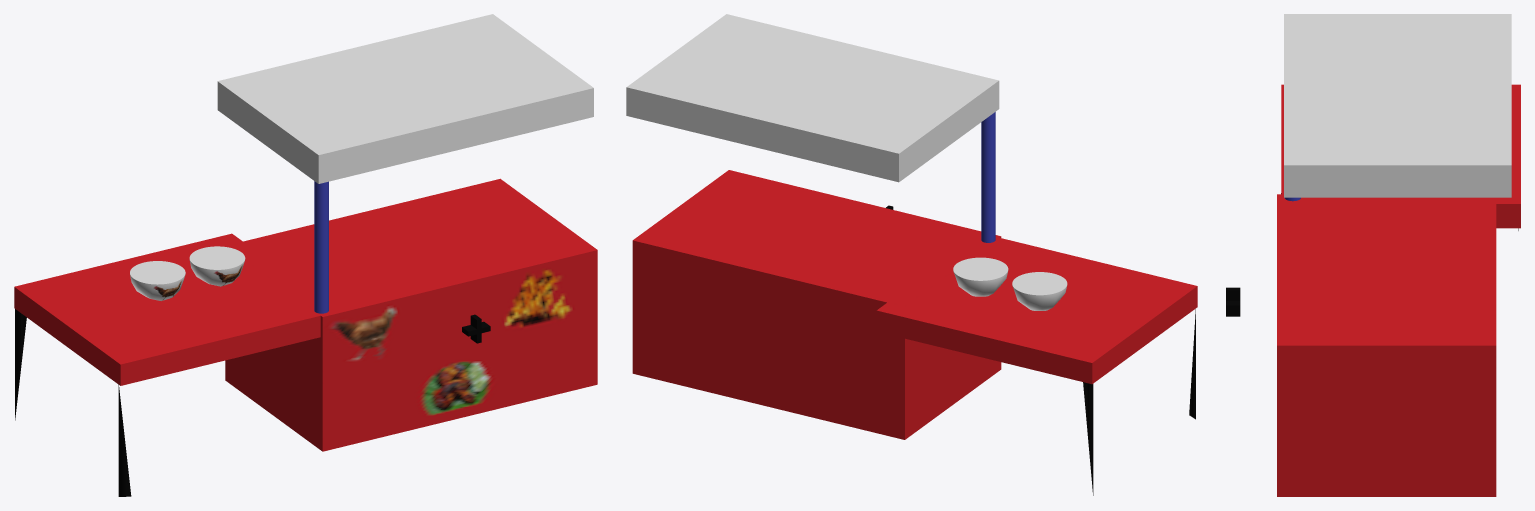
Rendered from boothchickengrilled.glb.
The picture shows the model from 3 angles, left to right: view 1: azimuth 30°, elevation 25°; view 2: azimuth 150°, elevation 25°; view 3: azimuth 270°, elevation 25°; orthographic projection. The views are drawn at different scales.
Visible parts, largest first — view 1: Object_5, Object_9, Object_21, Object_7, Object_27, Object_29, Object_23; view 2: Object_5, Object_9, Object_21, Object_7, Object_27, Object_29, Object_23; view 3: Object_5, Object_9, Object_21, Object_32.
Boxes of the visible parts, x1,y1,x2,y2 form: Object_5: (225, 178, 597, 451); Object_9: (217, 14, 593, 183); Object_21: (14, 233, 321, 385); Object_7: (314, 181, 328, 313); Object_27: (189, 246, 245, 286); Object_29: (130, 261, 185, 300); Object_23: (15, 309, 131, 496); Object_5: (632, 170, 1001, 439); Object_9: (626, 14, 999, 182); Object_21: (876, 234, 1197, 384); Object_7: (981, 112, 995, 242); Object_27: (953, 257, 1008, 296); Object_29: (1012, 272, 1067, 310); Object_23: (1083, 309, 1195, 495); Object_5: (1277, 194, 1496, 496); Object_9: (1284, 14, 1511, 197); Object_21: (1281, 84, 1520, 228); Object_32: (1226, 287, 1240, 316).
Size of the model in its own units: 0.8094 by 0.481 by 0.3861.
8 materials, 3 textured.
